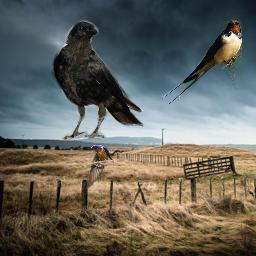Crow: (51, 20, 144, 140)
Swallow: (162, 20, 242, 104), (86, 144, 114, 189)
